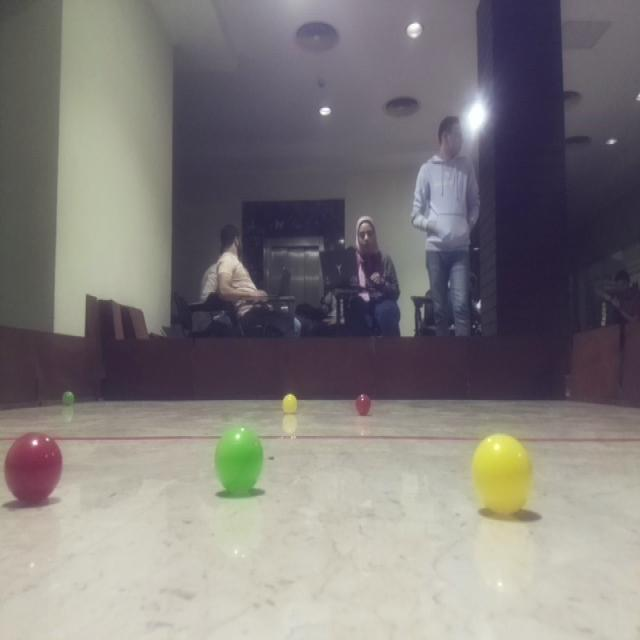ball: (353, 390, 377, 418), (278, 393, 302, 419), (60, 386, 79, 410)
